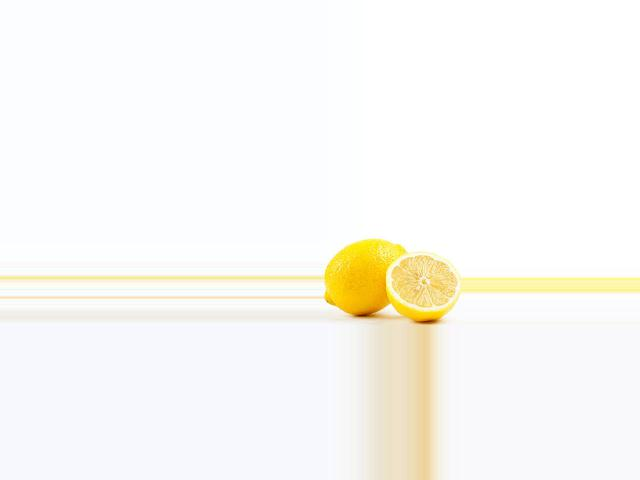lemon: (326, 236, 409, 320)
